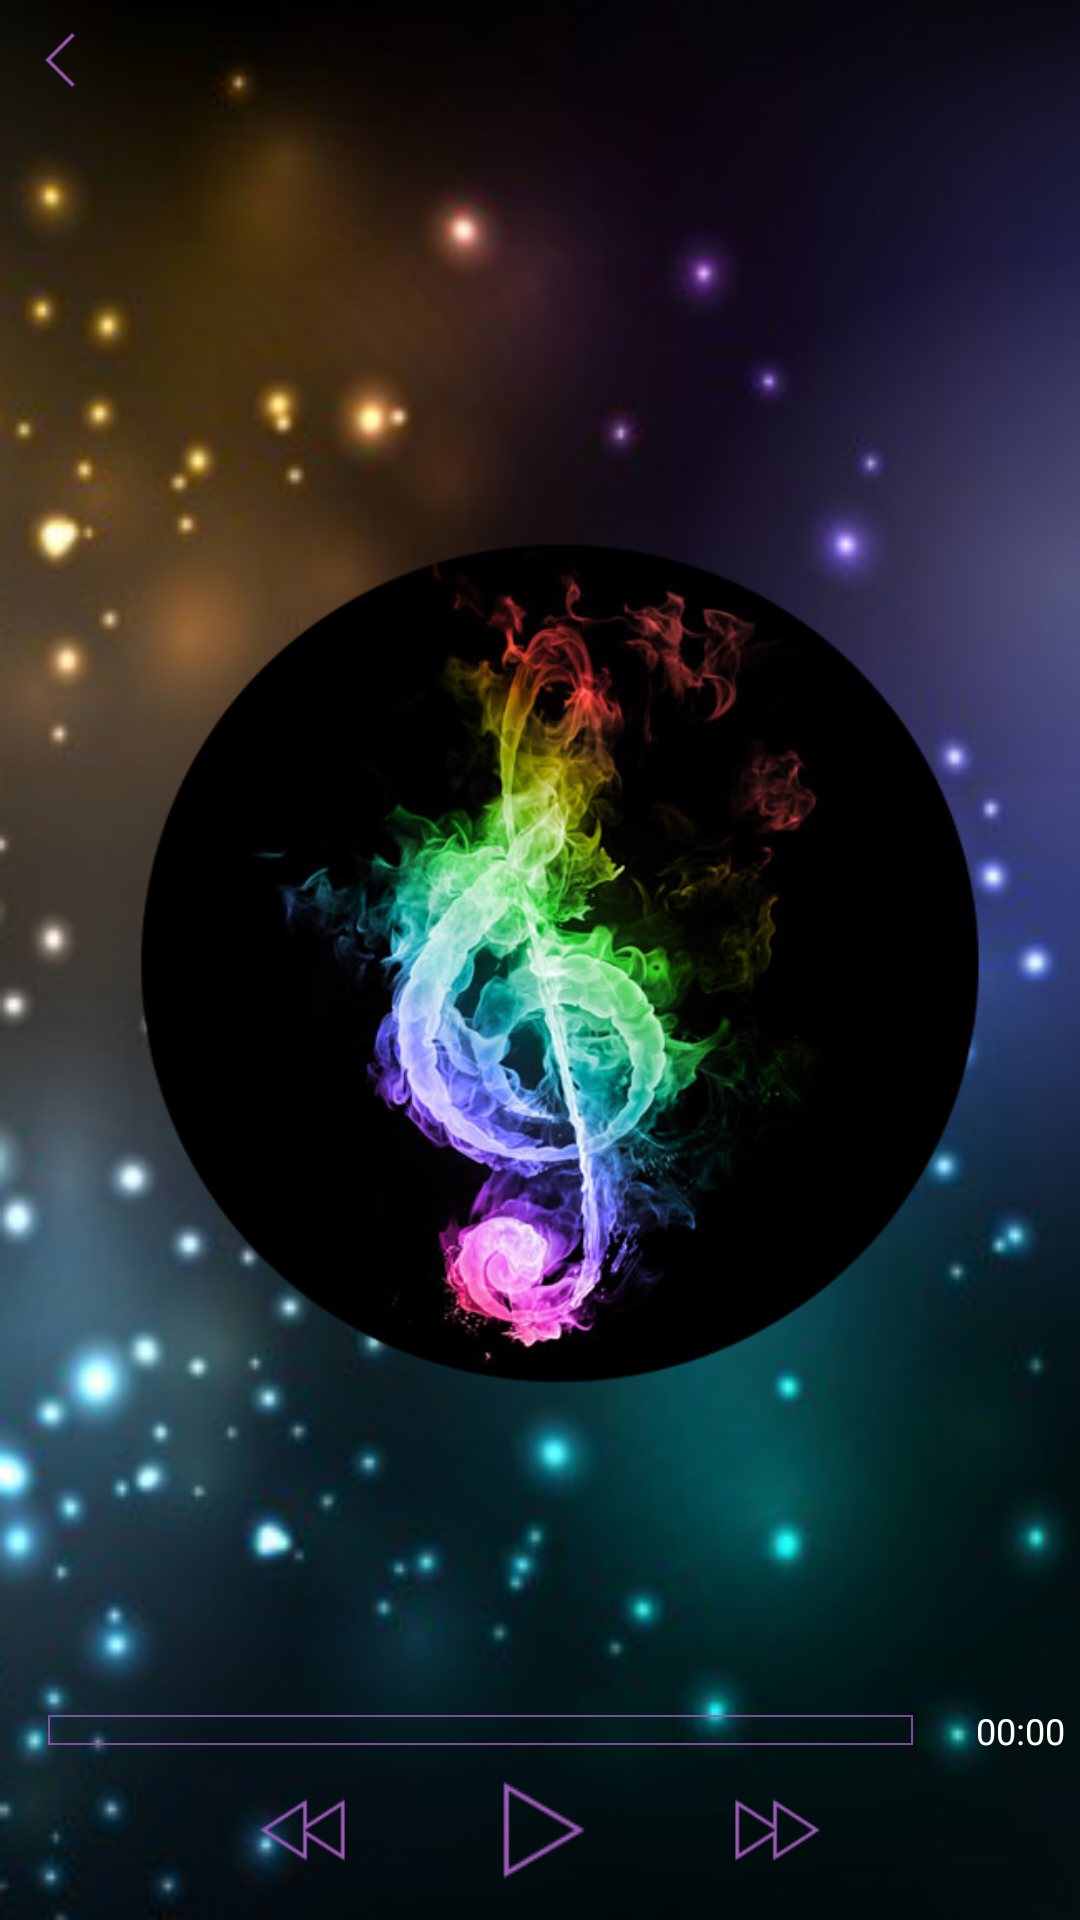

Where to tap for icons on this 1080px x 1920px app screen, as [x,y]:
next back: [302,1835]
next forward: [777,1830]
play: [543,1829]
